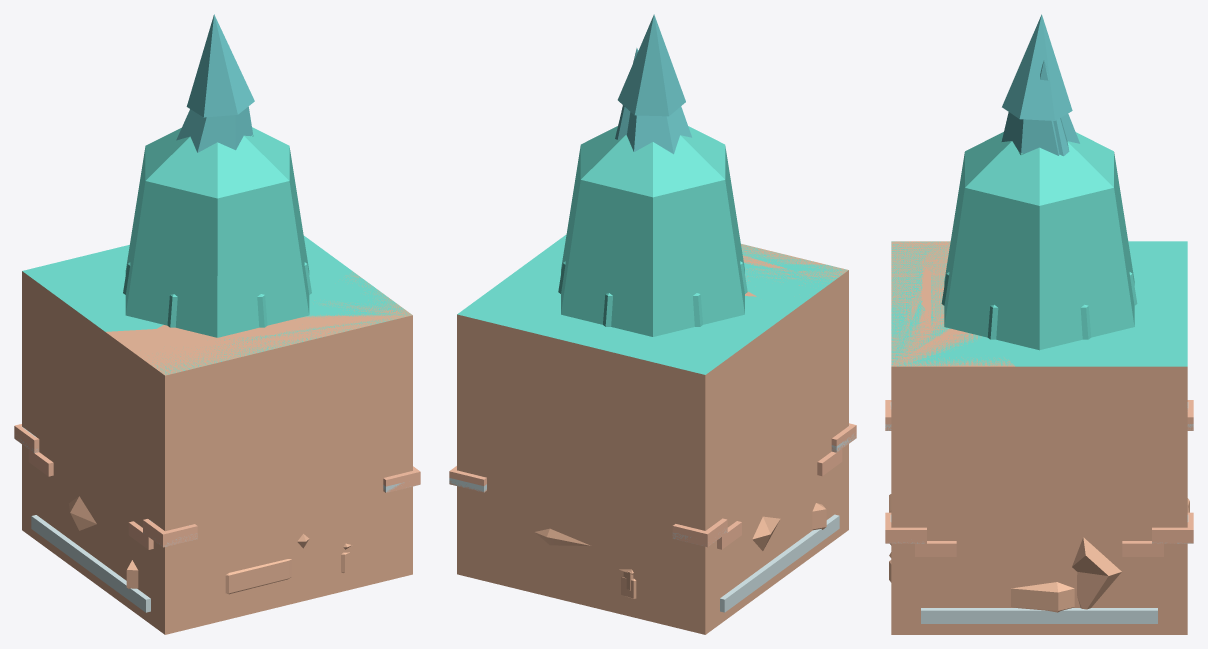
File: nature.glb
3 views of the same model, side by side, from view 1: azimuth 30°, elevation 25°; view 2: azimuth 150°, elevation 25°; view 3: azimuth 270°, elevation 25° (orthographic). The views are drawn at different scales.
Parts seen in each view (by area): view 1: cliff_large_rock, tree_default, cliff_block_rock, cliff_blockHalf_rock, tree_pineTallD, cliff_top_rock, bridge_wood, bridge_woodNarrow, rock_largeC, tree_oak, rock_largeD; view 2: cliff_block_rock, tree_default, cliff_blockHalf_rock, cliff_top_rock, bridge_wood, tree_pineTallD, cliff_large_rock, bridge_woodNarrow, log_large, rock_largeD, tree_oak; view 3: cliff_block_rock, cliff_large_rock, tree_default, cliff_blockHalf_rock, bridge_wood, tree_pineTallD, cliff_top_rock, bridge_woodNarrow, rock_largeD, cliff_waterfall_rock, rock_largeC, tree_oak (+2 smaller).
Part boxes in pixels (<box>): cliff_large_rock: <box>105,272,412,634</box>; tree_default: <box>125,127,309,337</box>; cliff_block_rock: <box>22,235,411,634</box>; cliff_blockHalf_rock: <box>22,401,412,634</box>; tree_pineTallD: <box>176,14,254,152</box>; cliff_top_rock: <box>141,315,410,633</box>; bridge_wood: <box>14,424,420,633</box>; bridge_woodNarrow: <box>28,449,153,616</box>; rock_largeC: <box>126,559,291,594</box>; tree_oak: <box>123,262,311,327</box>; rock_largeD: <box>68,496,309,548</box>; cliff_block_rock: <box>457,234,848,634</box>; tree_default: <box>561,126,744,336</box>; cliff_blockHalf_rock: <box>457,400,848,633</box>; cliff_top_rock: <box>741,244,848,547</box>; bridge_wood: <box>449,423,856,634</box>; tree_pineTallD: <box>617,14,691,154</box>; cliff_large_rock: <box>741,244,848,560</box>; bridge_woodNarrow: <box>717,449,842,612</box>; log_large: <box>752,475,801,600</box>; rock_largeD: <box>535,516,780,550</box>; tree_oak: <box>558,261,747,326</box>; cliff_block_rock: <box>891,241,1187,634</box>; cliff_large_rock: <box>891,241,1015,634</box>; tree_default: <box>944,132,1134,350</box>; cliff_blockHalf_rock: <box>891,500,1187,634</box>; bridge_wood: <box>885,400,1193,634</box>; tree_pineTallD: <box>1001,14,1079,155</box>; cliff_top_rock: <box>891,241,941,634</box>; bridge_woodNarrow: <box>915,541,1163,634</box>; rock_largeD: <box>889,505,1189,609</box>; cliff_waterfall_rock: <box>894,242,934,362</box>; rock_largeC: <box>889,494,1189,612</box>; tree_oak: <box>941,272,1137,339</box>.
Size of the model in its own units: 1.07 by 2.08 by 1.04.
